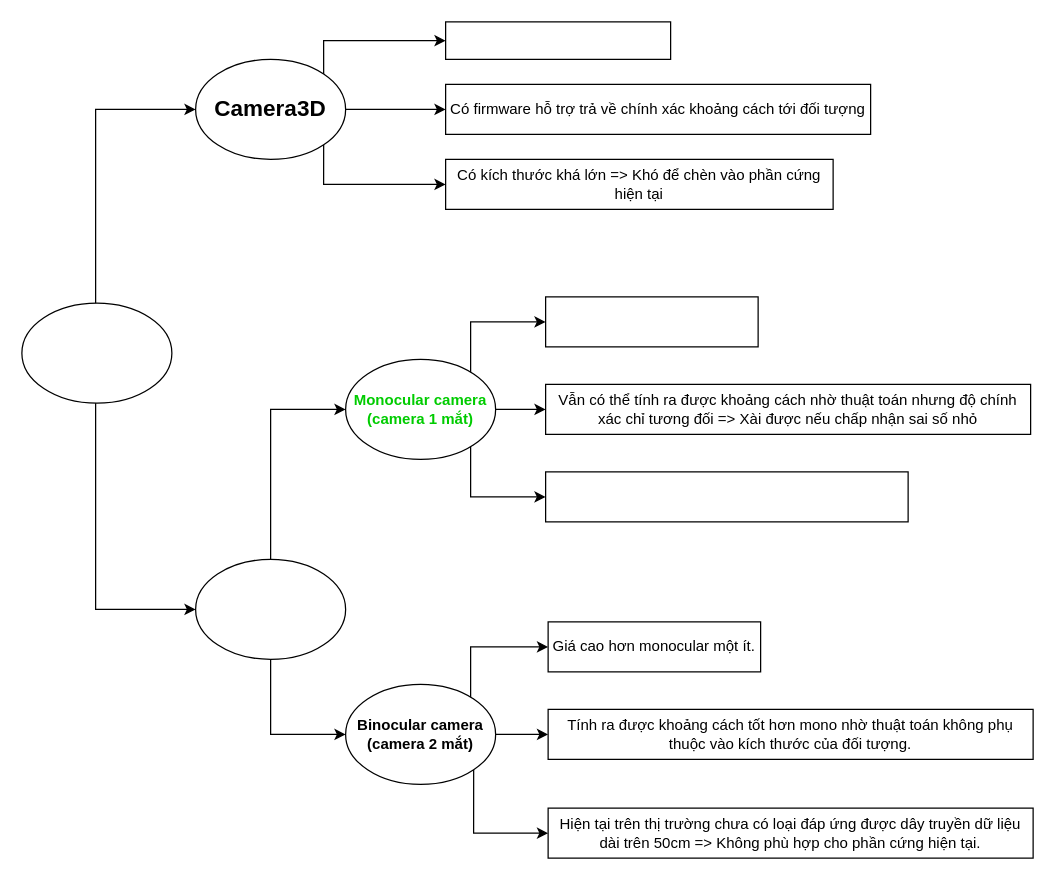
Some shapes in this 1055 by 880 pixel diagram are drawn without their labels. Here are the shapes that lost their labels. From the top down, the centre of each, then its label:
point (557, 40): Giá rất cao (~10 triệu)
point (651, 321): Giá dễ chịu (dưới 1.5 triệu)
point (96, 352): Cameras
point (726, 496): Kích thước nhỏ gọn dễ chèn vào khung hiện tại.
point (270, 608): Camera2D
